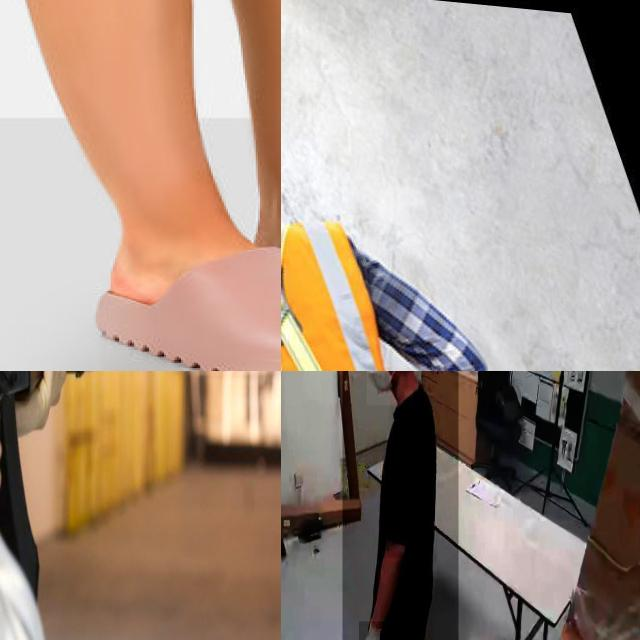Sandals: (100, 217, 281, 371)
face_mask: (366, 371, 401, 405)
hand_glove: (359, 621, 387, 640)
person: (342, 371, 459, 640)
